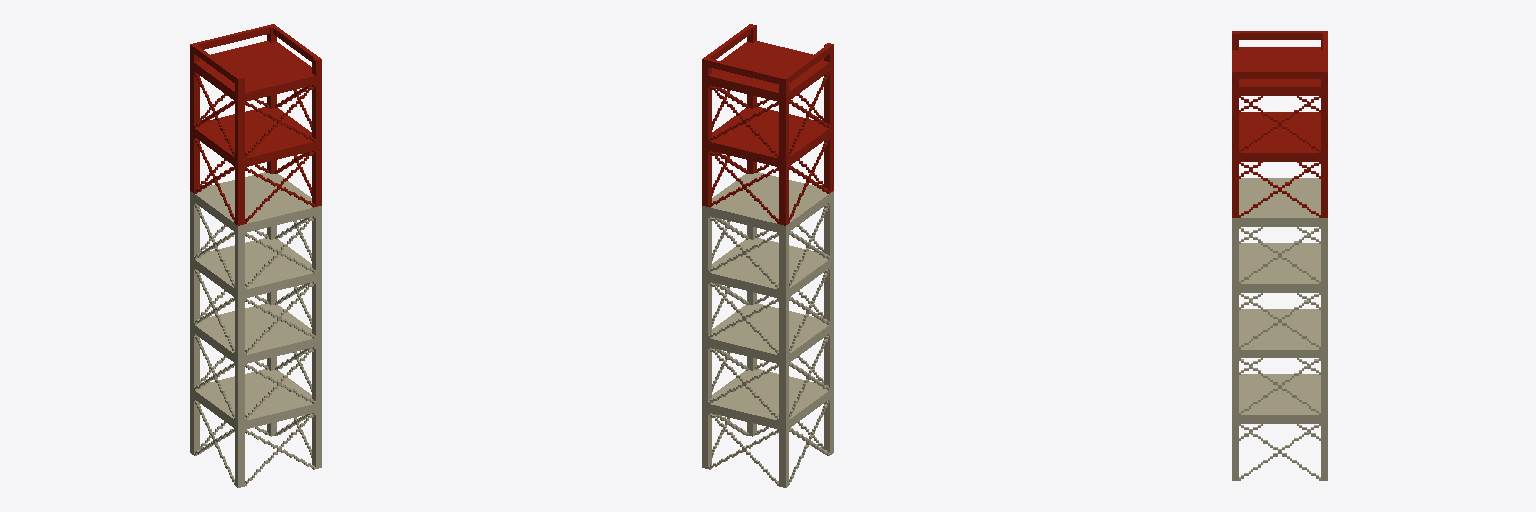
The picture shows the model from 3 angles: view 1: azimuth 30°, elevation 25°; view 2: azimuth 150°, elevation 25°; view 3: azimuth 270°, elevation 25°; orthographic projection.
Visible parts, largest first — view 1: object 1; view 2: object 1; view 3: object 1.
Part boxes in pixels (bbox=[...]): object 1: bbox=[190, 24, 321, 487]; object 1: bbox=[702, 24, 833, 487]; object 1: bbox=[1232, 31, 1327, 480].
Size of the model in its own units: 4 by 18.7 by 4.
Materials: 1 (1 with a texture image).